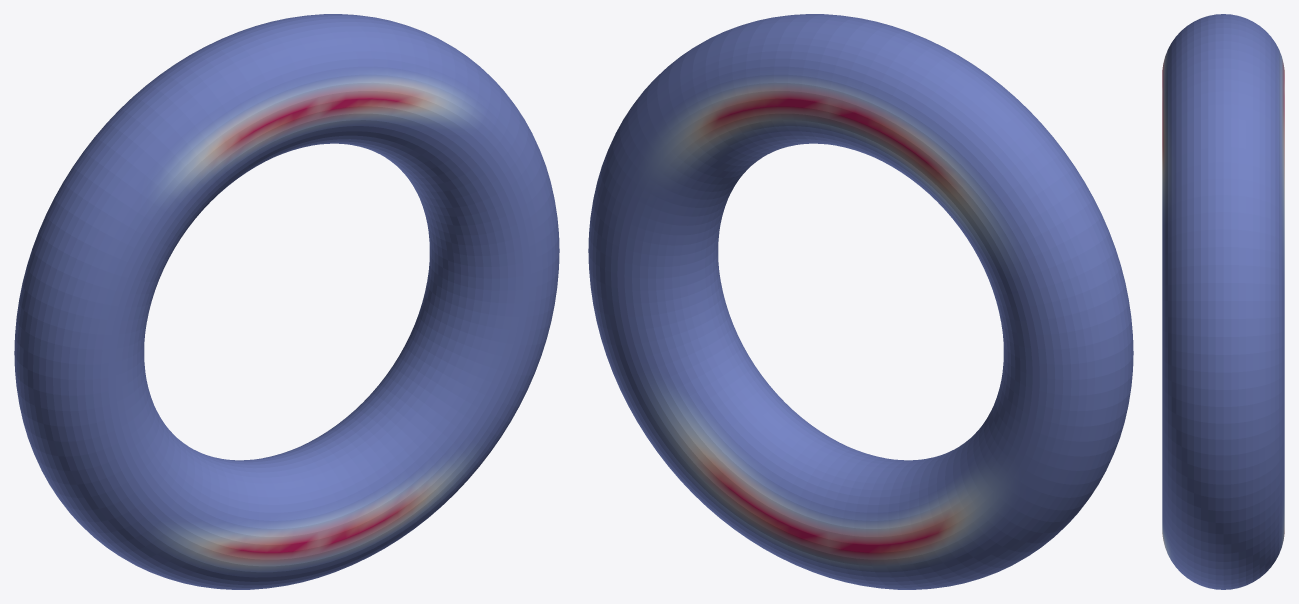
3 views of the same model, side by side, from view 1: azimuth 30°, elevation 25°; view 2: azimuth 150°, elevation 25°; view 3: azimuth 270°, elevation 25° (orthographic). The views are drawn at different scales.
Visible parts, largest first — view 1: world; view 2: world; view 3: world.
Boxes of the visible parts, bbox=[...] form: world: bbox=[14, 14, 559, 589]; world: bbox=[588, 14, 1133, 589]; world: bbox=[1162, 14, 1284, 589].
Bounding box in the file's own units: 14.4 × 14.4 × 3.06.
